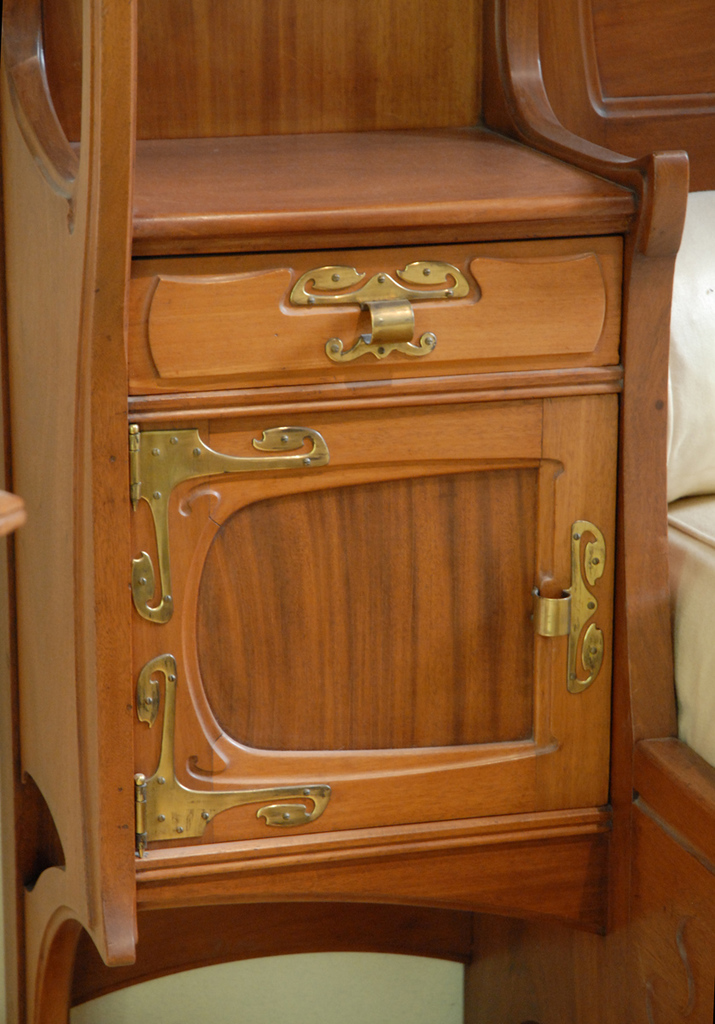cabinet door: (129, 430, 605, 804), (128, 260, 609, 367)
handle: (362, 290, 421, 363), (541, 570, 574, 678)
